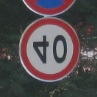Speed limit: (16, 15, 81, 80)
